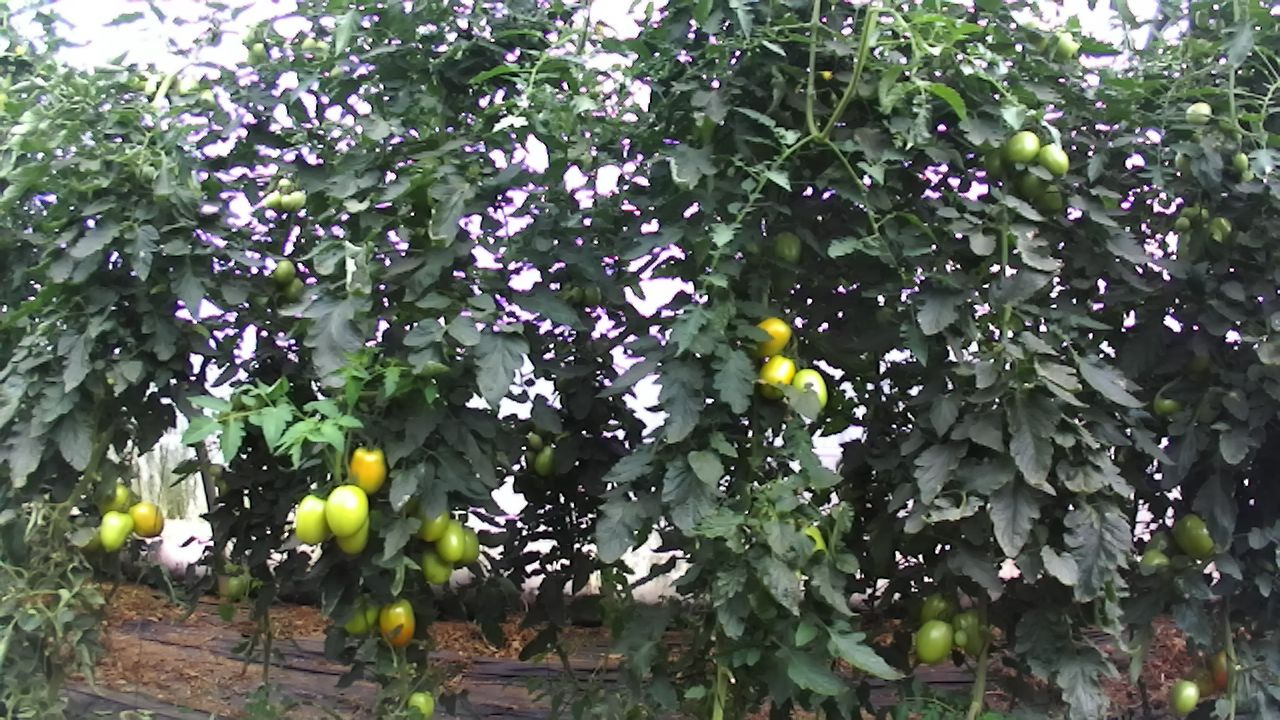tomato: (323, 482, 370, 539), (1170, 509, 1218, 561), (294, 491, 334, 548), (348, 442, 389, 496), (755, 351, 795, 403), (912, 618, 956, 665), (378, 596, 417, 647), (752, 313, 794, 359), (96, 508, 135, 554), (953, 605, 986, 658), (790, 365, 829, 409), (433, 514, 466, 565), (126, 499, 165, 539), (1002, 128, 1041, 166), (418, 546, 451, 587), (418, 502, 450, 544), (1169, 677, 1202, 715), (1037, 141, 1071, 175), (1013, 169, 1047, 203), (531, 443, 557, 478), (983, 143, 1007, 180), (407, 690, 435, 720), (272, 257, 296, 287), (1231, 151, 1250, 173), (1172, 215, 1192, 234), (953, 629, 970, 648)
